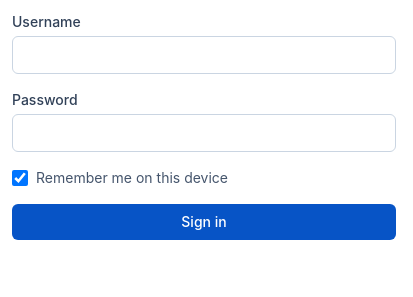
Test case: LoginForm › rejects an empty submission with client-side validation, before any request is sent
Click the button "Sign in" at (204, 222), box [12,204,396,240]
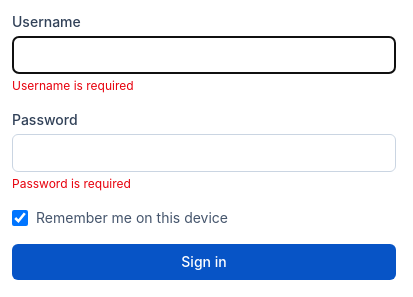
Expected: the text "Username is required" is shown, [12,78,134,93]
Expected: the text "Password is required" is shown, [12,176,131,191]
